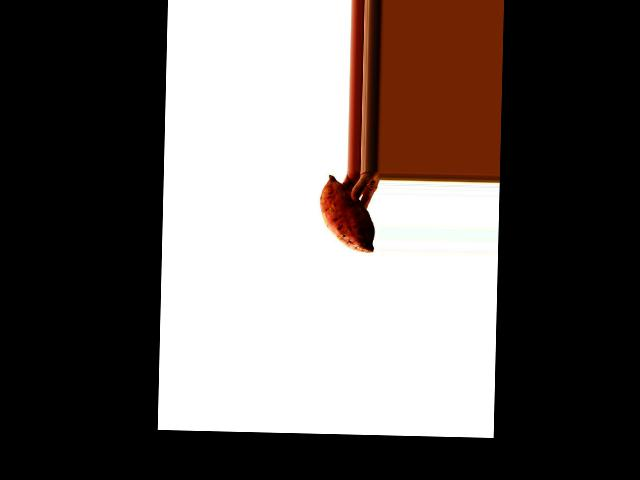sweet_potato: (313, 177, 378, 254)
